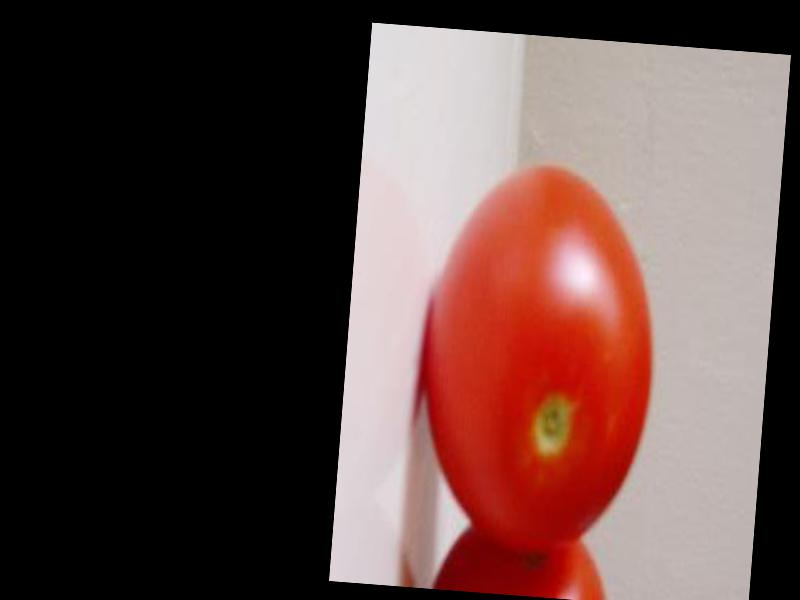Tomato: (412, 157, 666, 554)
